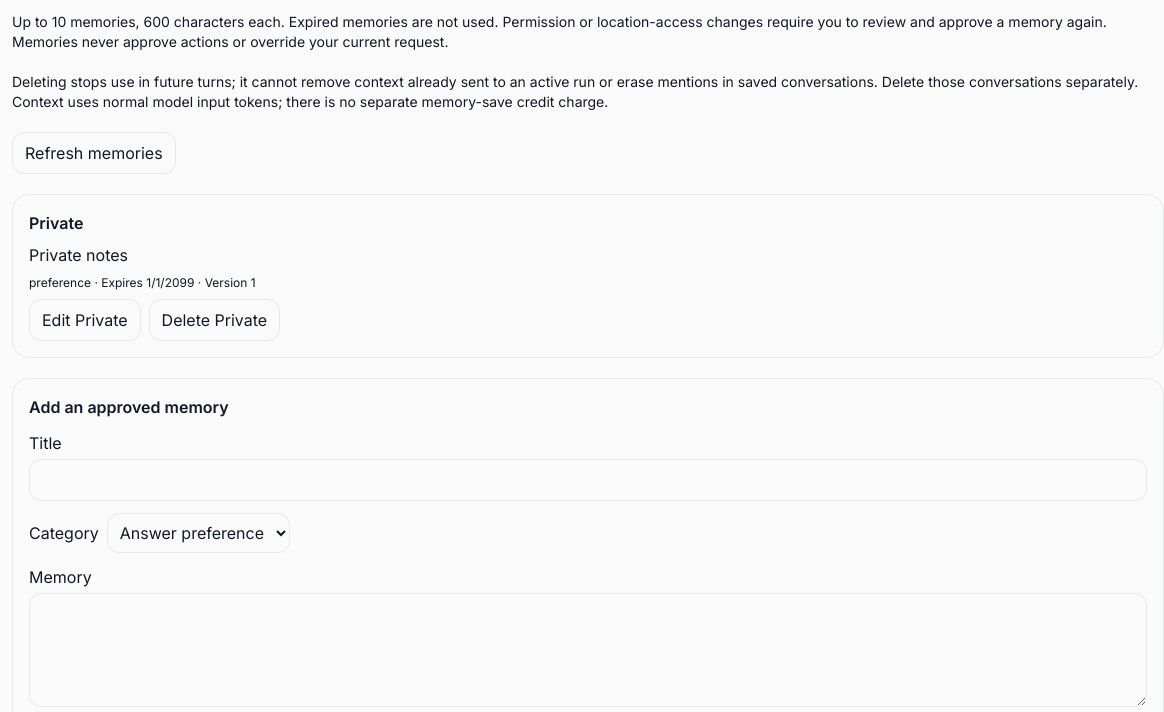
Test: approved memory controls › clears stored content when a refresh denies access
Expected: the text "Private notes" is shown, [29,245,128,265]
Click the button "Refresh memories" at coordinates (94, 153), box [12,132,176,174]
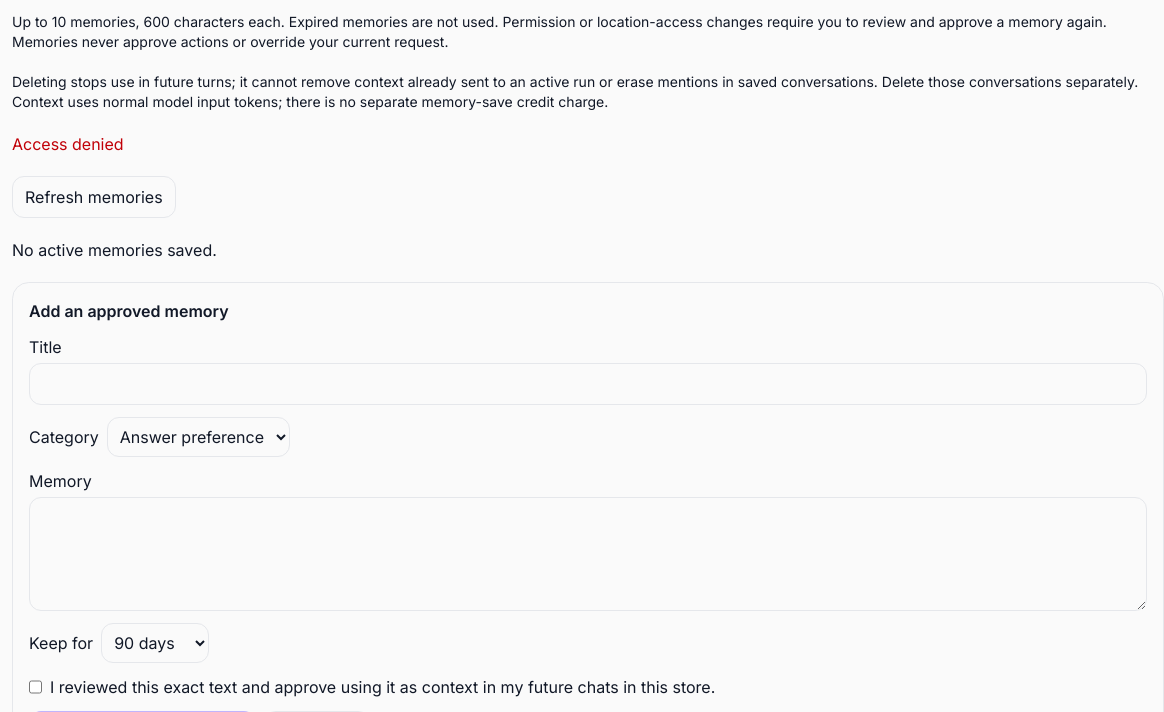
Expected: the text "Private notes" is gone
